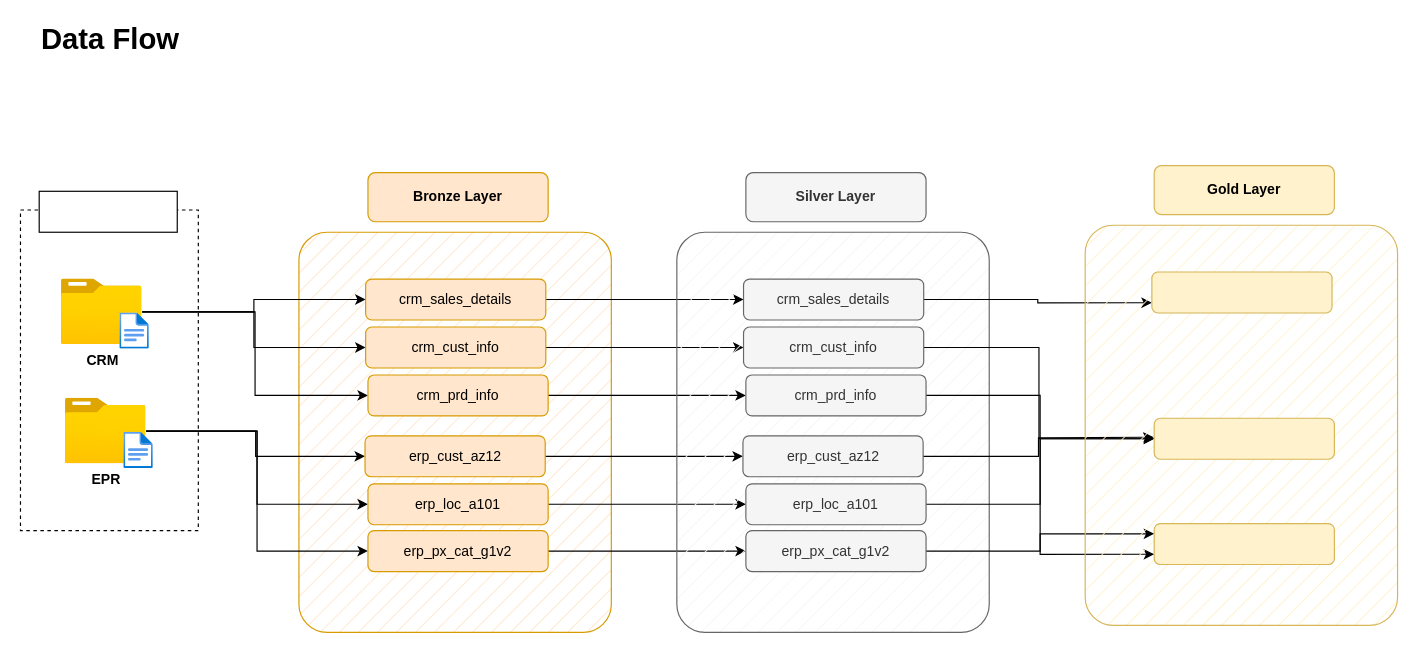
Image size: 1418x653. Some labels were removed from this diagram. Here are the shapes that lost their labels. From the top down, the centre of each, then its label:
At point (107, 211): "Data Source".
At point (1241, 292): "fact_sales".
At point (1243, 438): "dim_customers".
At point (1243, 543): "dim_products".
